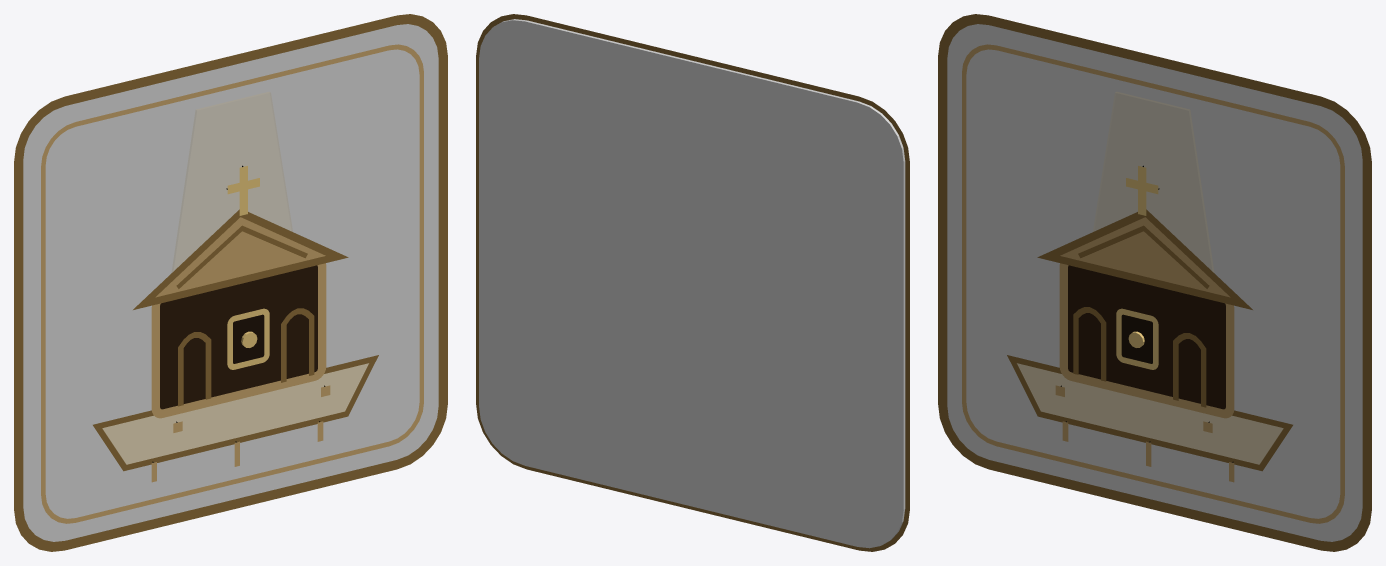
The model's file is obj-kovchezhets-matfeya.glb.
The picture shows the model from 3 angles, left to right: view 1: azimuth 30°, elevation 25°; view 2: azimuth 150°, elevation 25°; view 3: azimuth 330°, elevation 25°; orthographic projection.
Parts seen in each view (by area): view 1: obj-kovchezhets-matfeya; view 2: obj-kovchezhets-matfeya; view 3: obj-kovchezhets-matfeya.
Part boxes in pixels (x1,y1,x2,y2): obj-kovchezhets-matfeya: (14,14,447,551); obj-kovchezhets-matfeya: (476,14,909,551); obj-kovchezhets-matfeya: (938,14,1371,551).
Size of the model in its own units: 0.3917 by 0.3917 by 0.0351.
